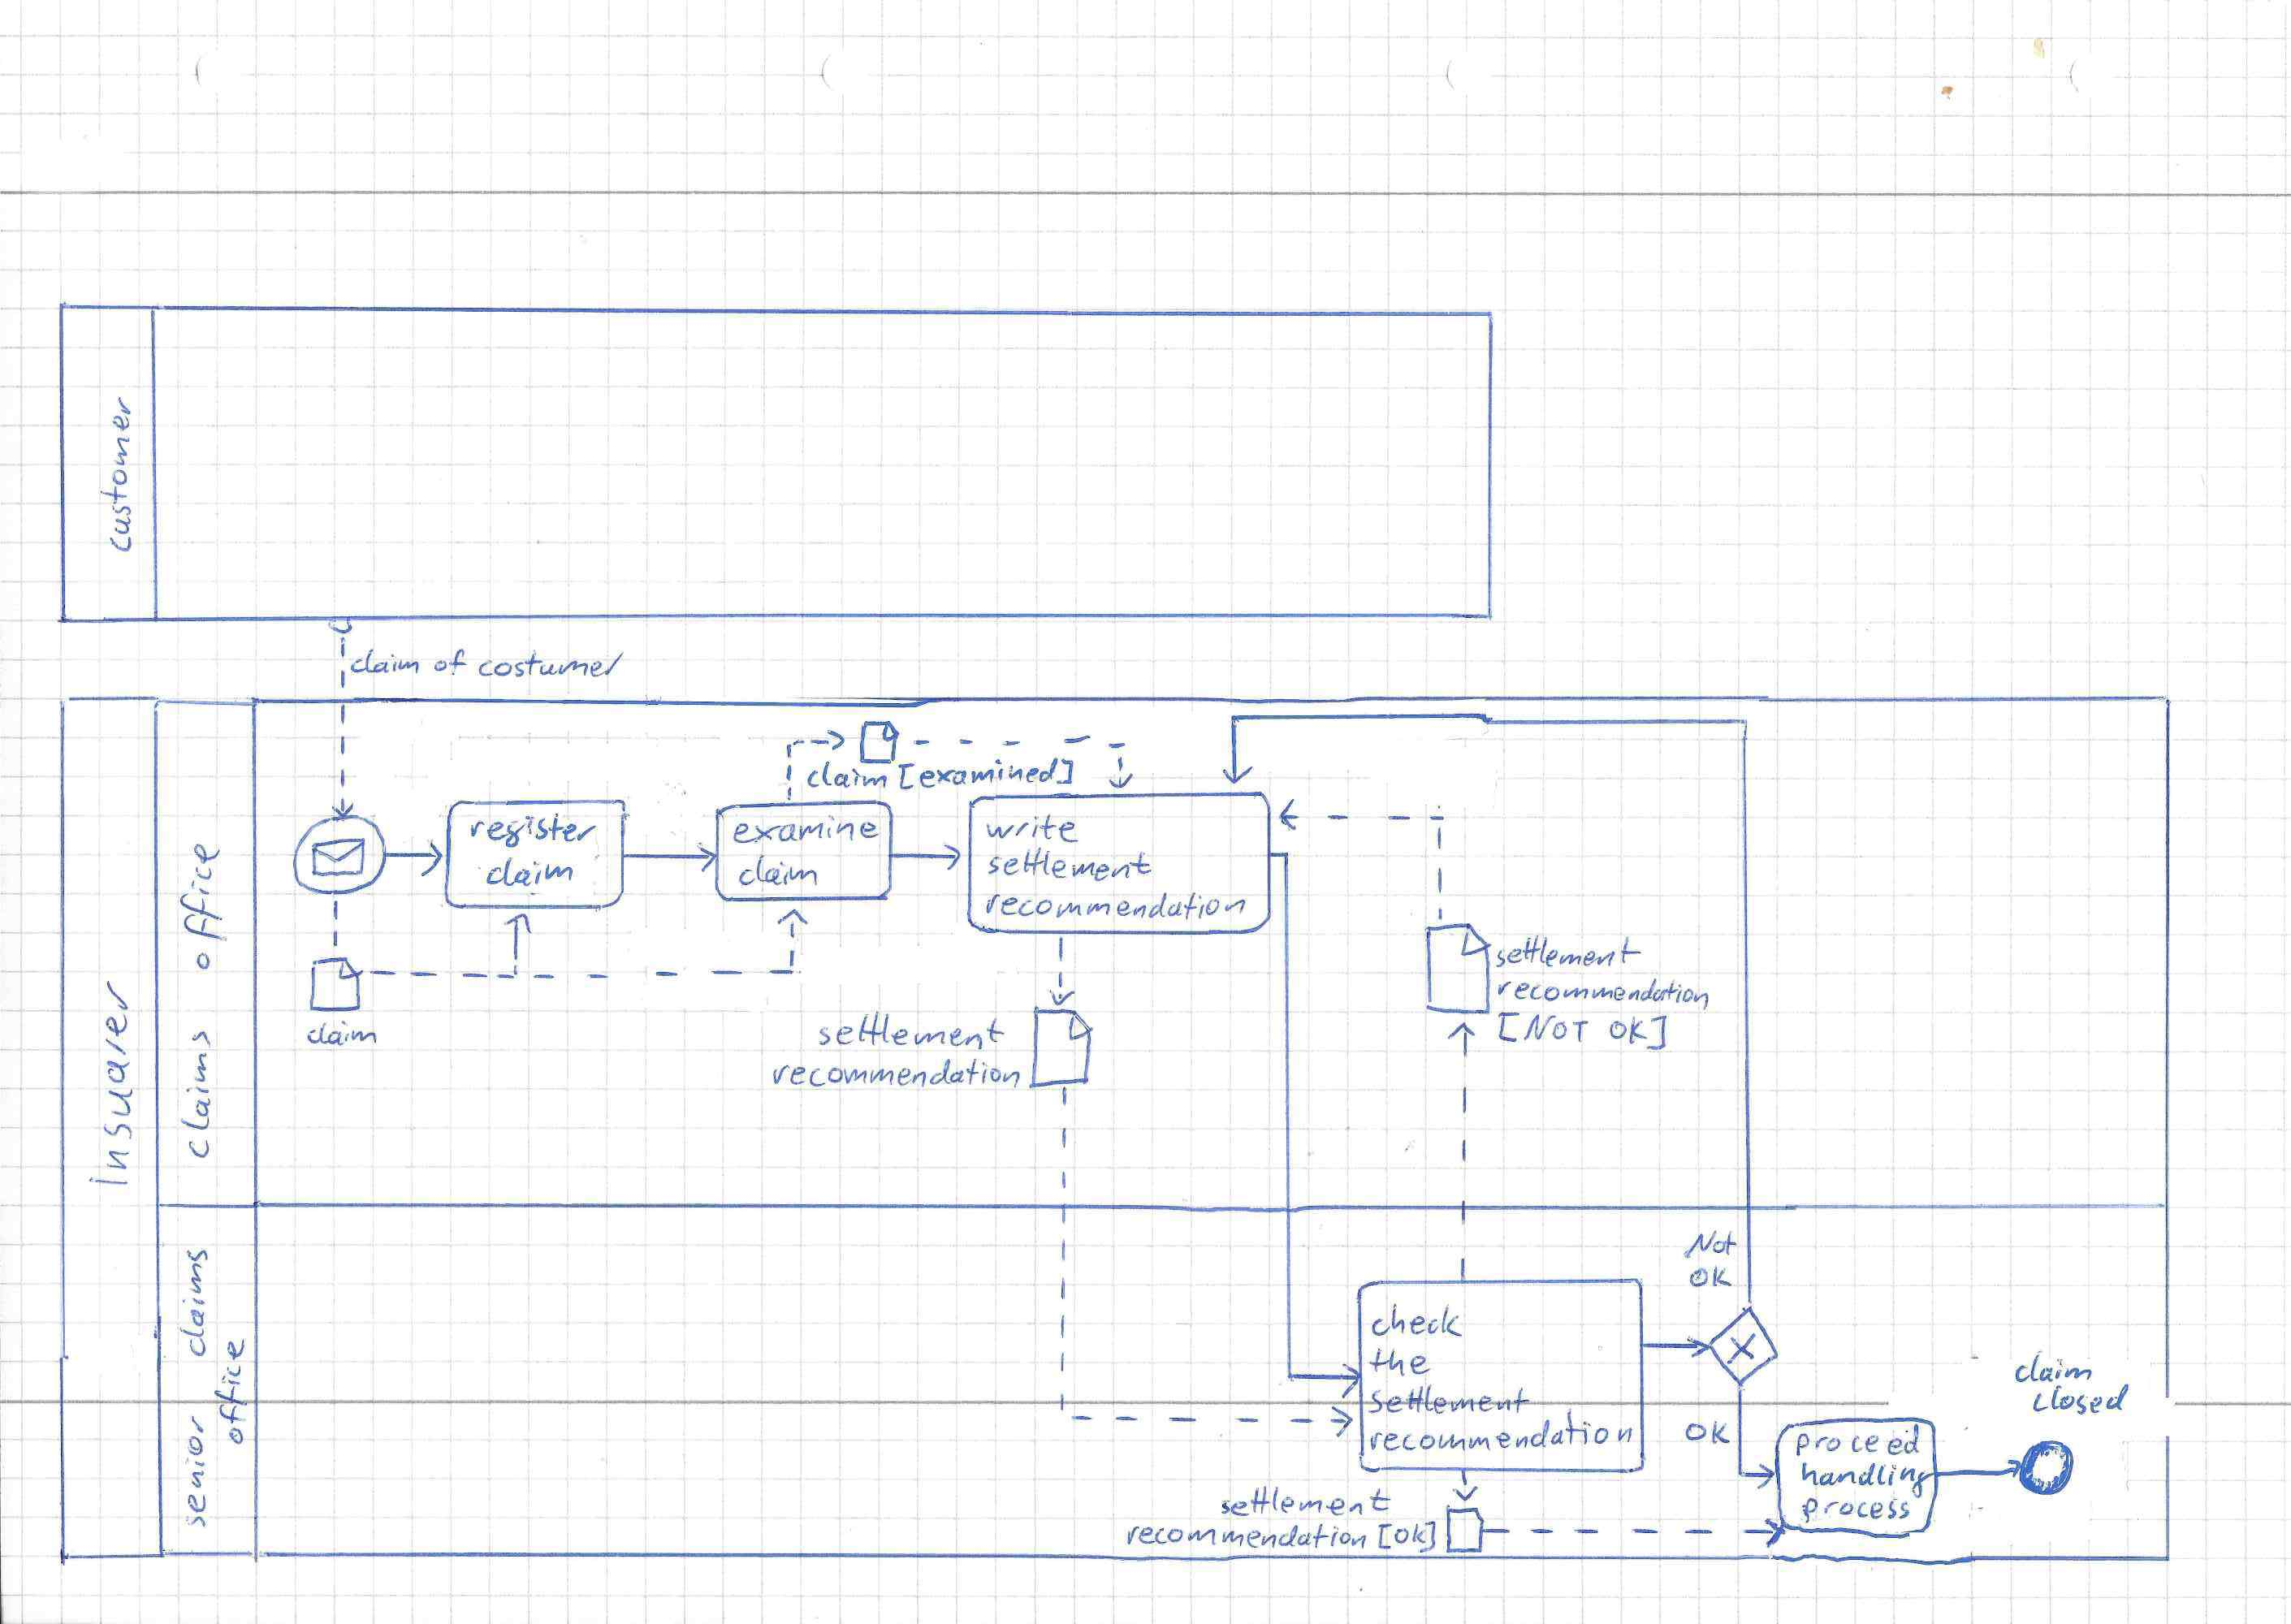Not: (1678, 1225, 1745, 1264)
OK: (1678, 1413, 1738, 1450), (1683, 1260, 1738, 1295)
OK]: (1602, 1011, 1673, 1056)
Settlement: (1365, 1378, 1537, 1420)
[NOT: (1492, 1007, 1595, 1049)
[examined]: (893, 750, 1080, 794)
[ok]: (1372, 1517, 1441, 1557)
check: (1367, 1297, 1469, 1345)
claim: (480, 852, 580, 895), (2008, 1345, 2098, 1388), (733, 851, 826, 893), (801, 756, 894, 796), (300, 1016, 385, 1051), (344, 645, 425, 680)
claims: (172, 1023, 221, 1167), (170, 1243, 214, 1366)
closed: (2024, 1378, 2136, 1420)
costumer: (473, 647, 629, 685)
customer: (91, 390, 142, 559)
examine: (726, 810, 885, 851)
handling: (1796, 1454, 1940, 1504)
insuarer: (77, 970, 144, 1197)
of: (427, 643, 473, 684)
office: (172, 835, 232, 979), (209, 1332, 253, 1452)
proceed: (1790, 1420, 1927, 1464)
process: (1796, 1492, 1917, 1531)
recommendation: (1365, 1404, 1641, 1457), (979, 884, 1253, 926), (766, 1053, 1028, 1095), (1492, 972, 1715, 1016), (1119, 1519, 1372, 1555)
register: (462, 808, 604, 854)
senior: (177, 1406, 214, 1536)
settlement: (812, 1005, 1010, 1058), (980, 842, 1161, 888), (1214, 1480, 1398, 1522), (1488, 930, 1648, 975)
the: (1363, 1343, 1439, 1381)
write: (980, 808, 1086, 849)
